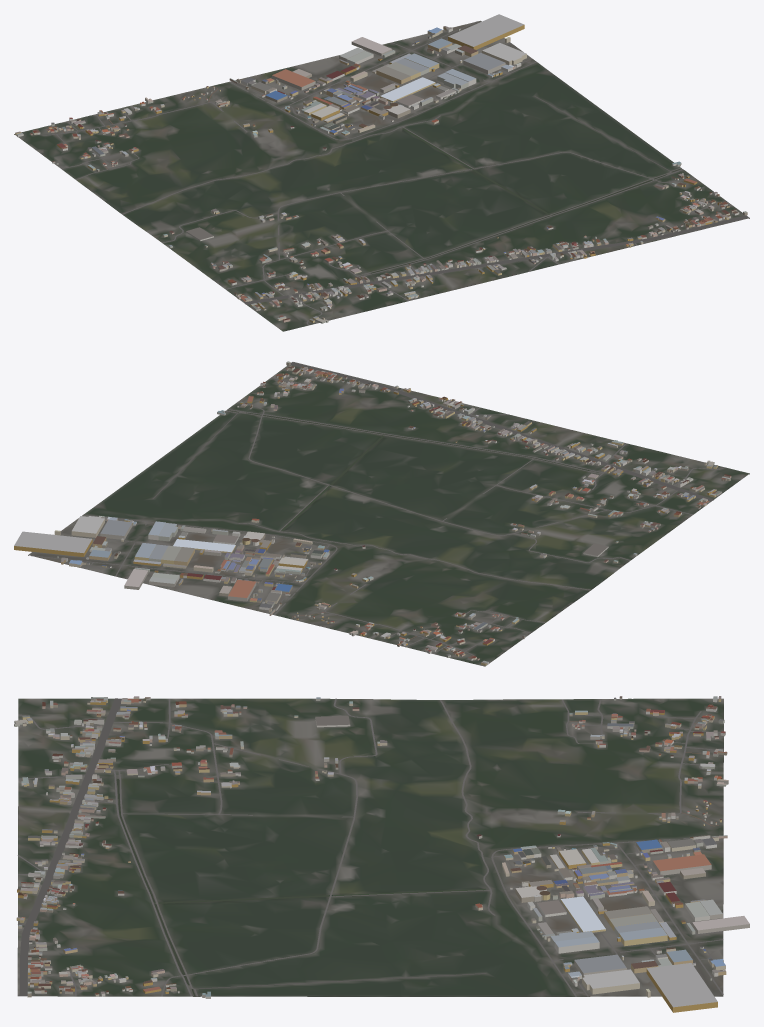
3 views of the same model, one above another, from view 1: azimuth 30°, elevation 25°; view 2: azimuth 150°, elevation 25°; view 3: azimuth 270°, elevation 25° (orthographic). The views are drawn at different scales.
Visible parts, largest first — view 1: ground, buildings, roads, water; view 2: ground, buildings, roads, water; view 3: ground, buildings, roads, water.
Part boxes in pixels (x1,y1,x2,y2): ground: (14,20,749,331); buildings: (15,14,747,323); roads: (42,21,748,325); water: (371,128,681,273); ground: (28,362,749,666); buildings: (14,361,731,665); roads: (31,362,724,655); water: (227,410,589,530); ground: (17,698,723,996); buildings: (14,696,749,1012); roads: (17,698,723,996); water: (116,779,485,996).
Size of the model in its own units: 1476 by 19.3 by 1461.
